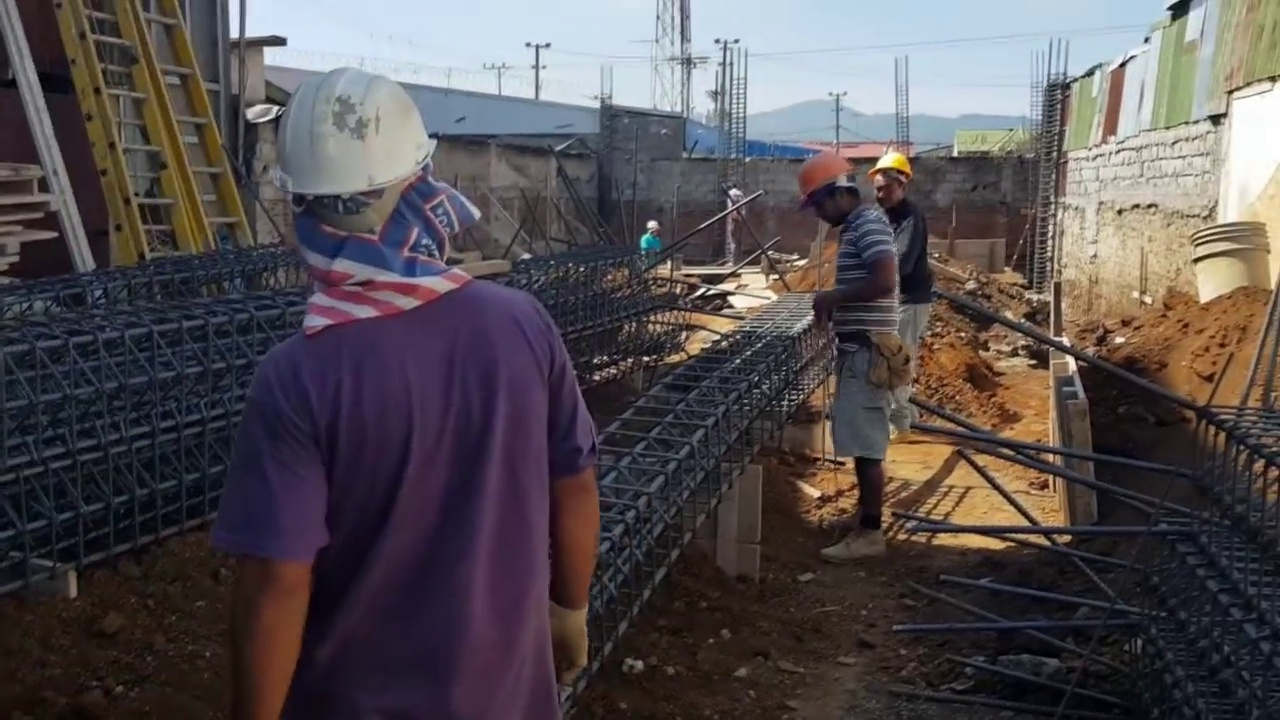helmet: (263, 64, 430, 201), (795, 152, 854, 213), (873, 148, 914, 183), (646, 221, 661, 229)
helmet-off: (722, 179, 736, 193)
helmet-on: (268, 63, 444, 314), (800, 154, 872, 235), (871, 147, 920, 205), (646, 220, 661, 237)
person: (227, 60, 597, 719), (810, 148, 914, 544), (875, 144, 943, 413), (720, 179, 747, 270), (639, 221, 661, 265)
